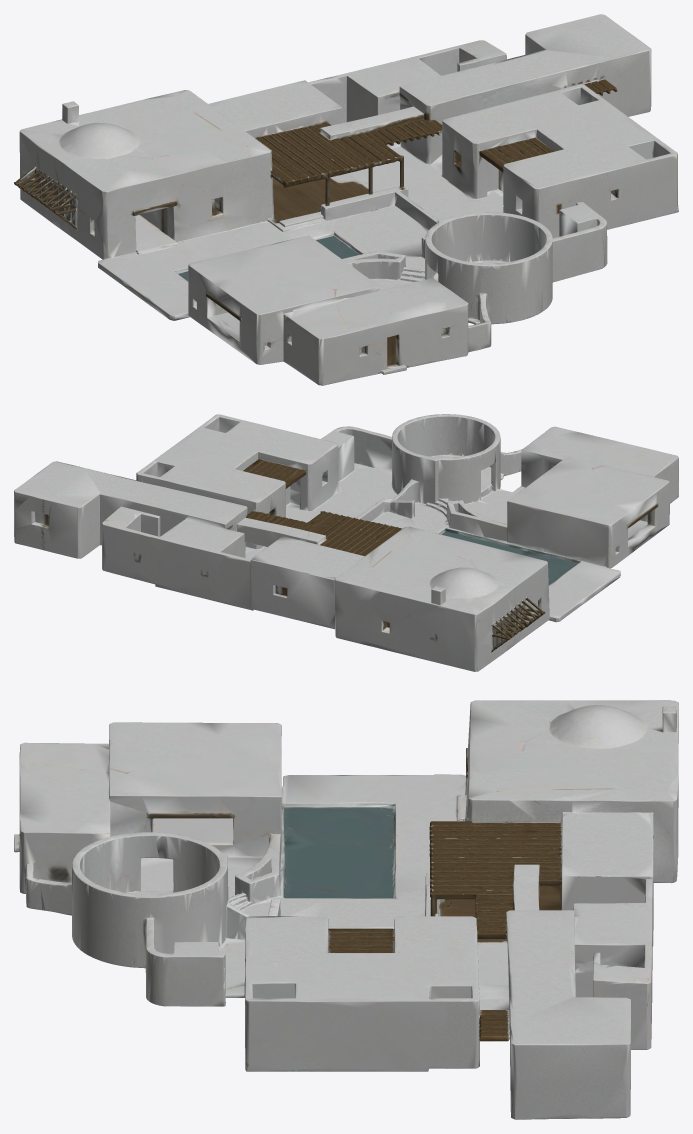
The model's file is villa-M.glb.
3 renders of one model, top to bottom at view 1: azimuth 30°, elevation 25°; view 2: azimuth 150°, elevation 25°; view 3: azimuth 270°, elevation 25°, orthographic. The views are drawn at different scales.
Bounding box in the file's own units: 1.9 × 0.2722 × 1.54.
Materials: 1 (1 with a texture image).
